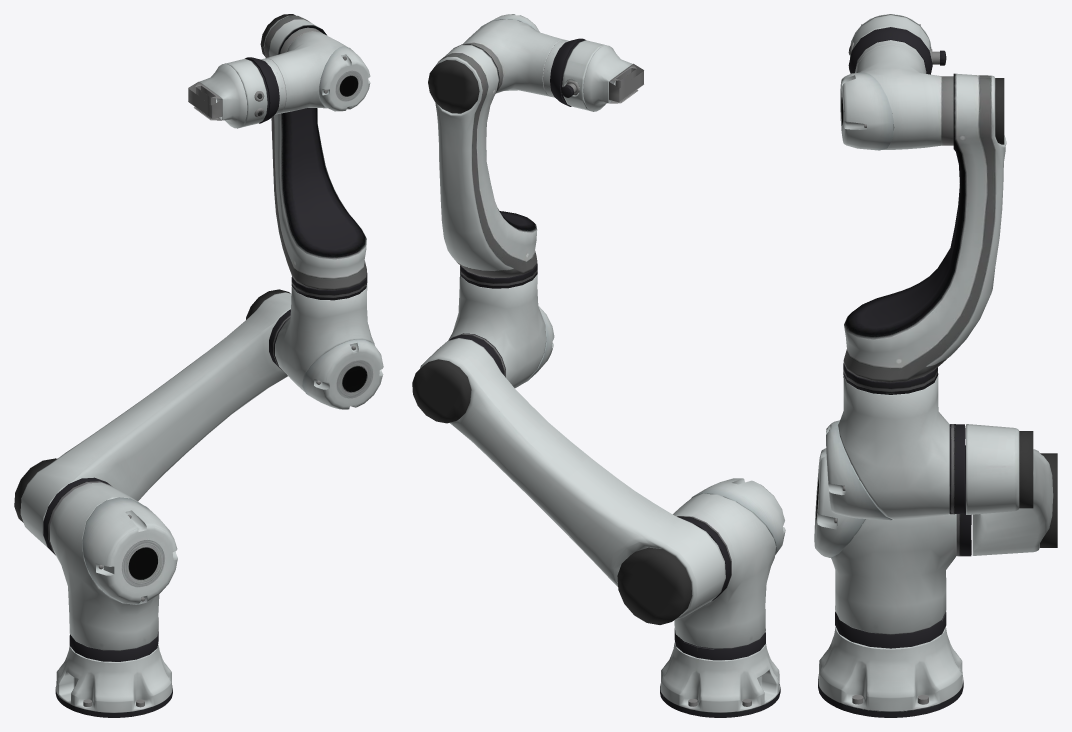
Rendered from robot.glb.
3 renders of one model, left to right at view 1: azimuth 30°, elevation 25°; view 2: azimuth 150°, elevation 25°; view 3: azimuth 270°, elevation 25°, orthographic. The views are drawn at different scales.
Visible parts, largest first — view 1: hand01, hand00, hand03, hand02, hand04, base, hand05; view 2: hand01, hand03, hand00, hand02, hand04, base, hand05; view 3: hand03, hand02, hand00, hand04, hand01, base.
Boxes of the visible parts, left/top/right/bottom form: hand01: left=14, top=289, right=291, bottom=547; hand00: left=43, top=477, right=177, bottom=661; hand03: left=260, top=14, right=366, bottom=290; hand02: left=269, top=273, right=383, bottom=409; hand04: left=216, top=27, right=370, bottom=128; base: left=55, top=643, right=172, bottom=717; hand05: left=188, top=64, right=247, bottom=128; hand01: left=412, top=338, right=725, bottom=624; hand03: left=428, top=44, right=537, bottom=278; hand00: left=673, top=478, right=785, bottom=660; hand02: left=448, top=264, right=554, bottom=388; hand04: left=463, top=14, right=614, bottom=111; base: left=660, top=641, right=780, bottom=717; hand05: left=583, top=45, right=643, bottom=111; hand03: left=843, top=73, right=1006, bottom=382; hand02: left=826, top=363, right=965, bottom=520; hand00: left=814, top=445, right=971, bottom=648; hand04: left=840, top=14, right=953, bottom=150; hand01: left=966, top=424, right=1057, bottom=555; base: left=818, top=626, right=963, bottom=717.
Bounding box in the file's own units: 1.44 × 2.73 × 0.808.
Materials: 1 (1 with a texture image).
